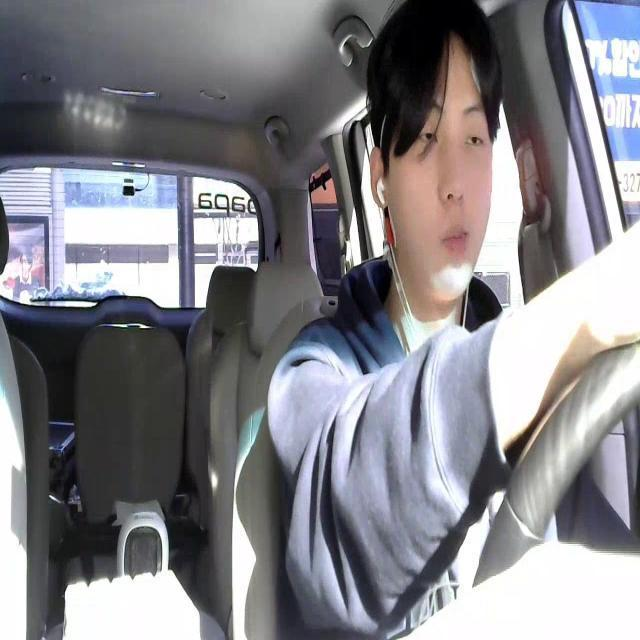Attentive: (364, 0, 504, 292)
